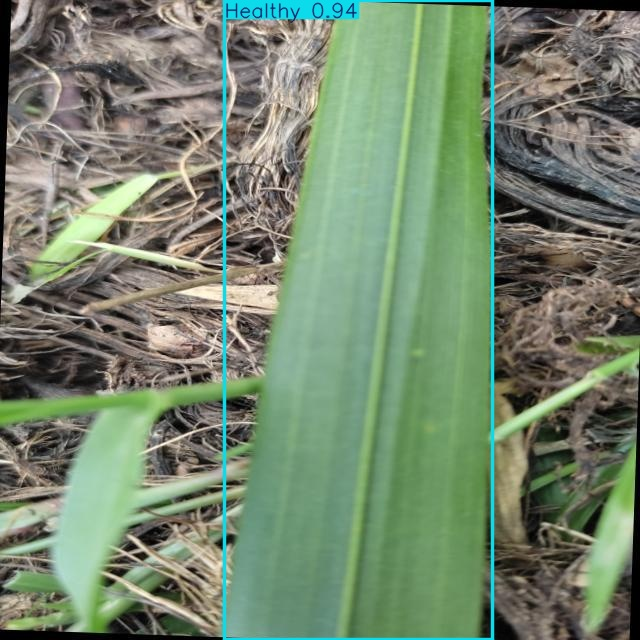Healthy: (225, 1, 493, 640)
